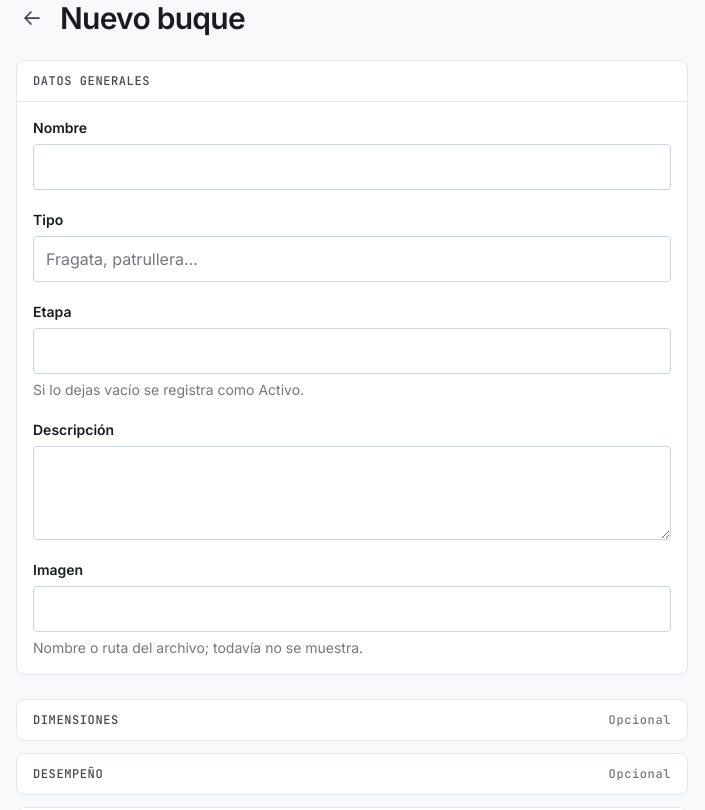
Test: NuevoBuquePage › shows a generic error in the alert
Type "  ARC Caribe " into the field labelled "Nombre" at (352, 167), box [33, 144, 671, 190]
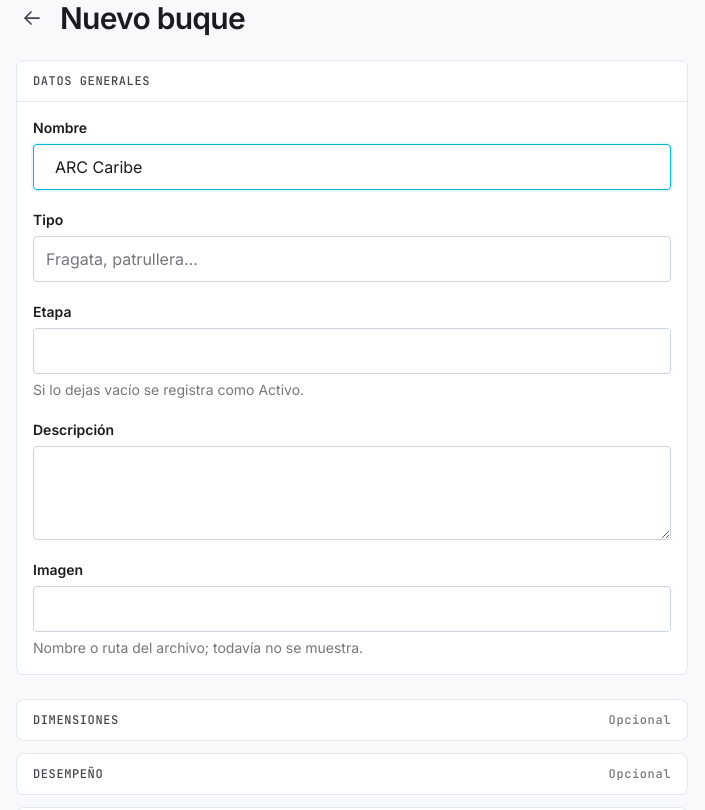
Type "Fragata" into the field labelled "Tipo" at (352, 259), box [33, 236, 671, 282]
(page scrolled)
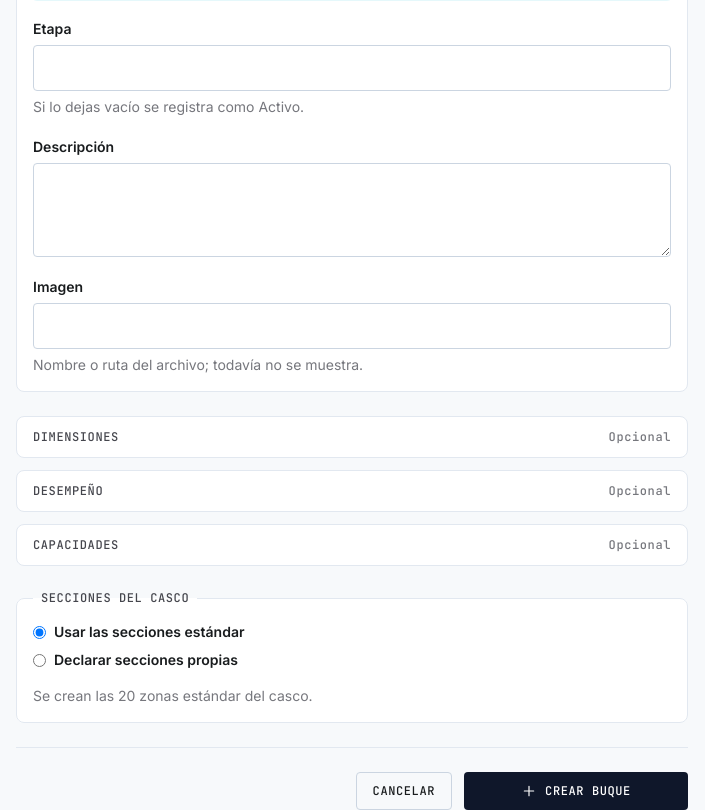
Click the button "Crear buque" at (576, 791), box [464, 772, 688, 809]
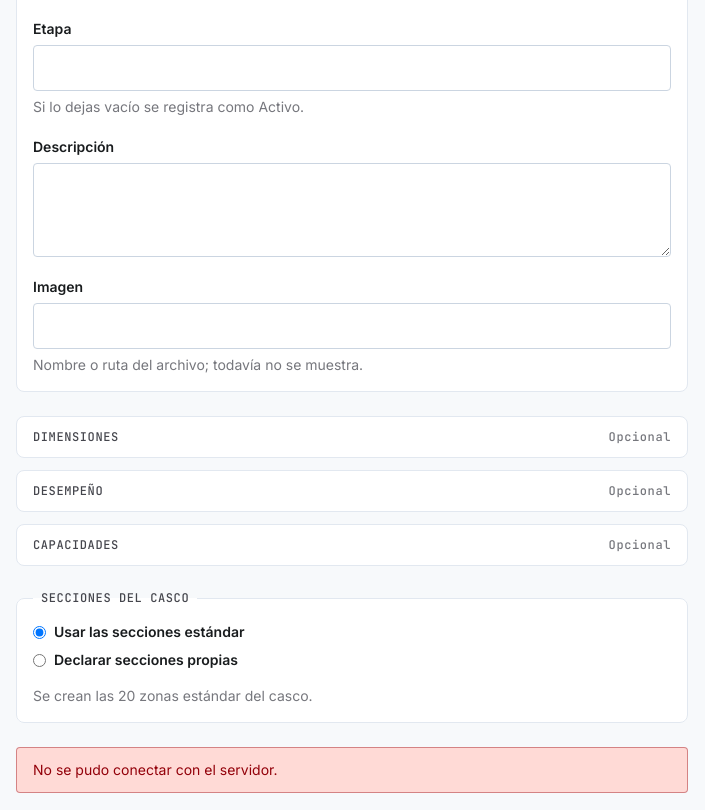
Result: the message reads "No se pudo conectar con el servidor." at [33, 761, 278, 778]
